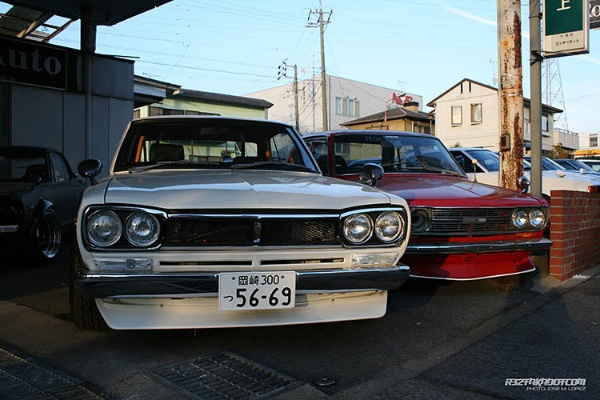licence: (219, 269, 296, 309)
